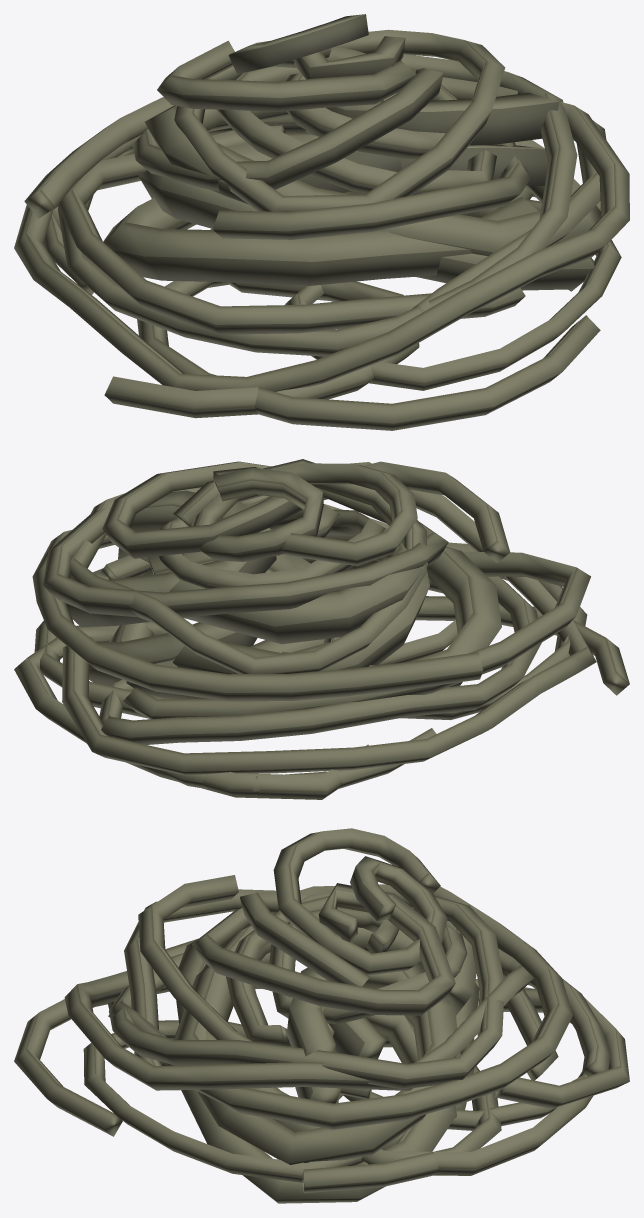
The model's file is SM_Soba.fbx.
3 views of the same model, one above another, from view 1: azimuth 30°, elevation 25°; view 2: azimuth 150°, elevation 25°; view 3: azimuth 270°, elevation 25° (orthographic). The views are drawn at different scales.
Parts seen in each view (by area): view 1: SM_Soba; view 2: SM_Soba; view 3: SM_Soba.
Boxes of the visible parts, x1,y1,x2,y2 form: SM_Soba: [14, 14, 629, 430]; SM_Soba: [14, 459, 629, 799]; SM_Soba: [14, 828, 629, 1203].
Size of the model in its own units: 14.18 by 6.59 by 15.04.
